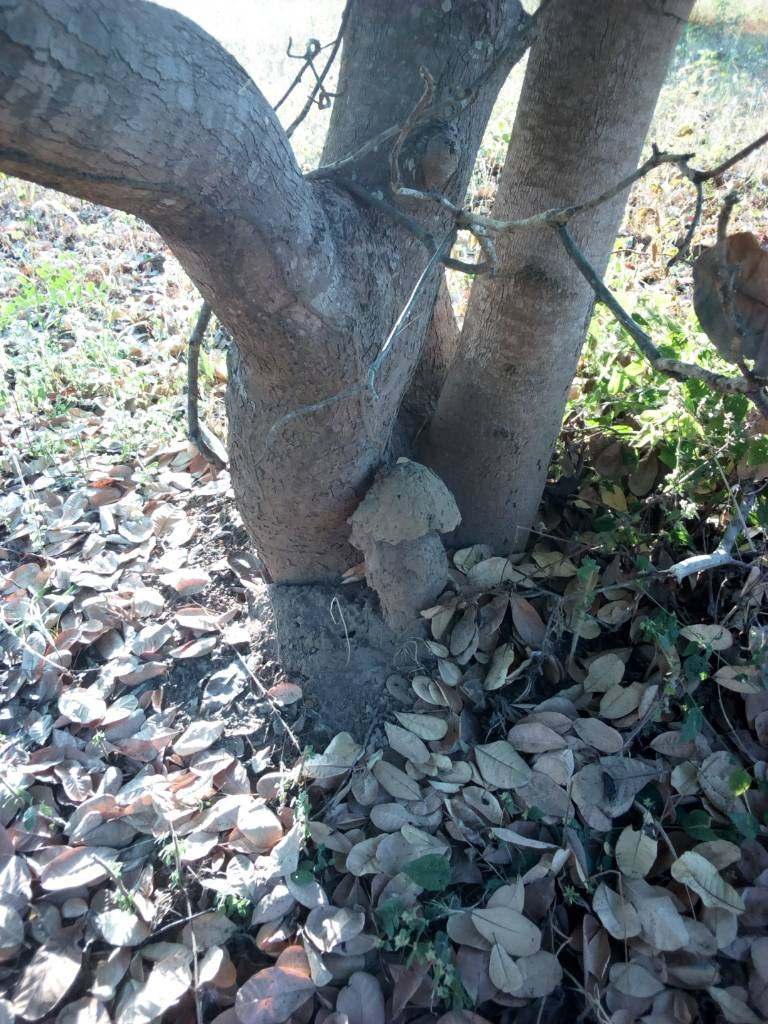Termites: (232, 355, 355, 591)
